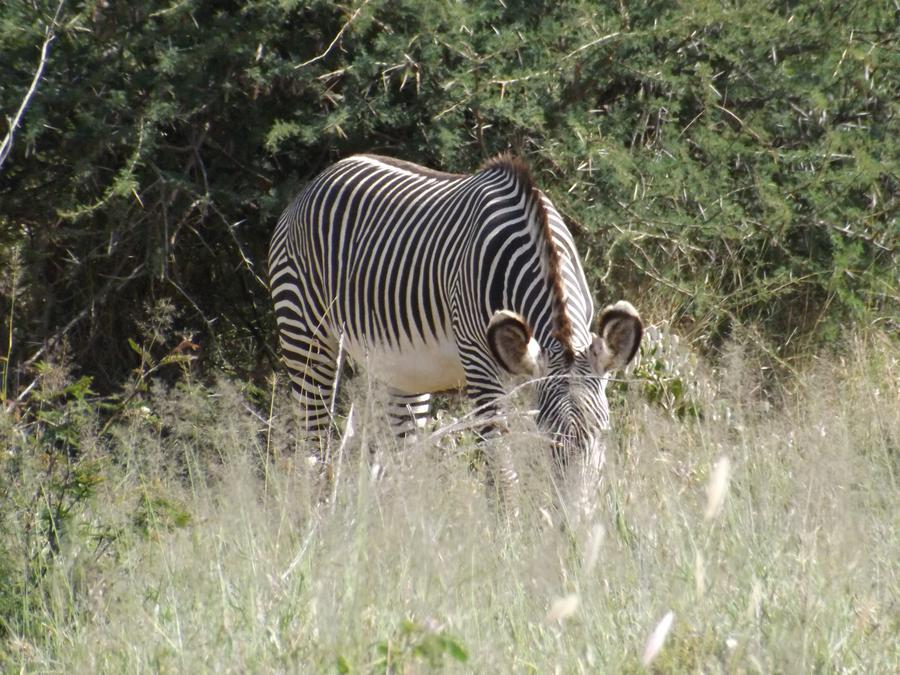zebra_grevys: (279, 149, 495, 375)
